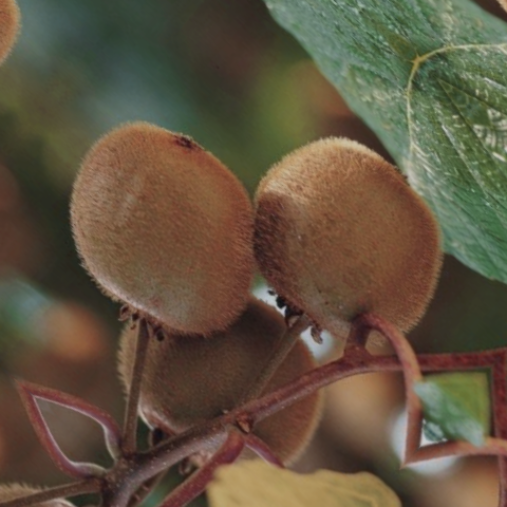kiwi: (174, 81, 501, 402), (9, 78, 314, 378), (65, 219, 369, 507)
